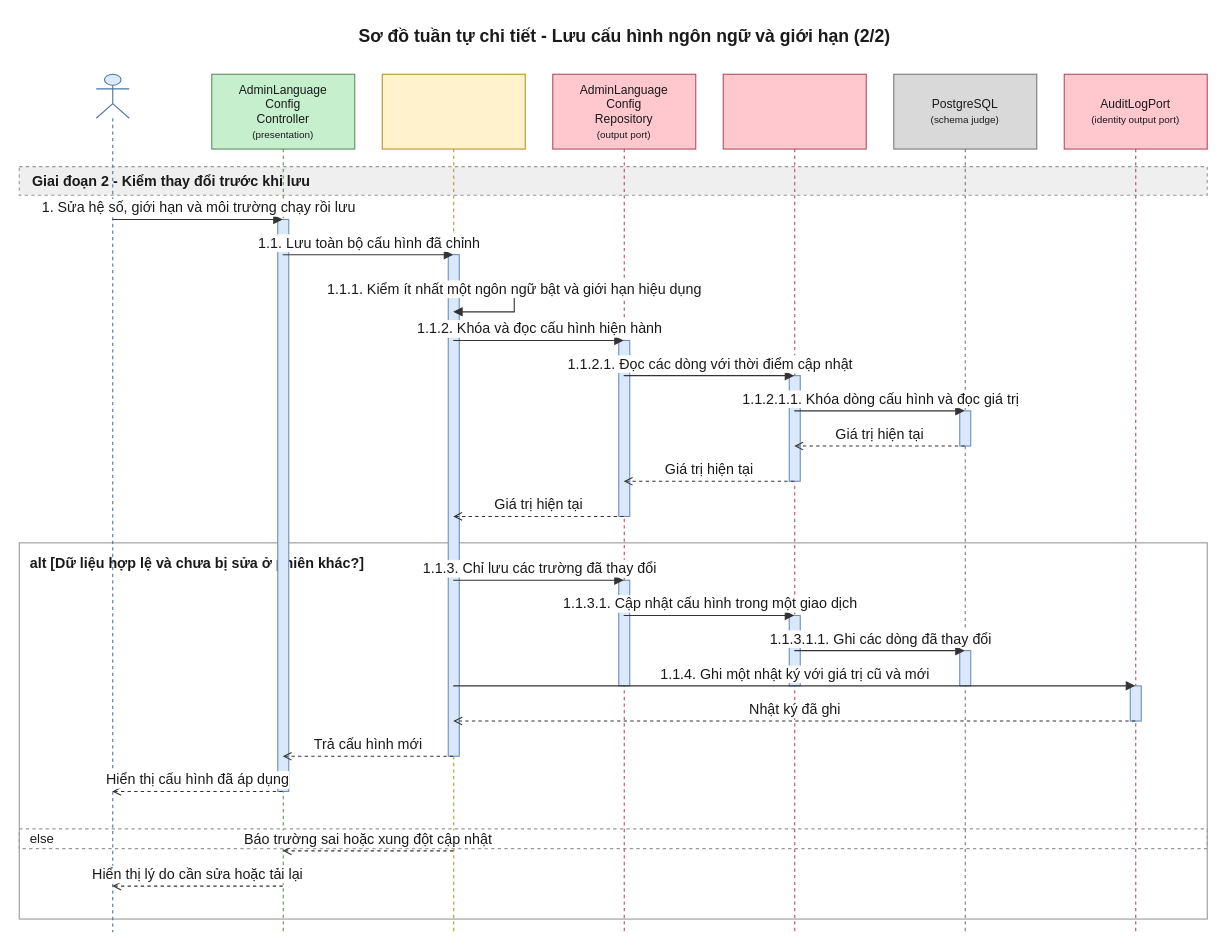
This 1227x952 diagram has some shape labels left out. The box of each missing label's shape, as (x1, y1, x2, y2) in pixels:
JdbcAdmin LanguageConfig Repository (persistence adapter): (722, 73, 866, 932)
Quản trị viên: (95, 73, 129, 932)
UpdateAdmin LanguageConfig CommandHandler (application command): (381, 73, 525, 932)
